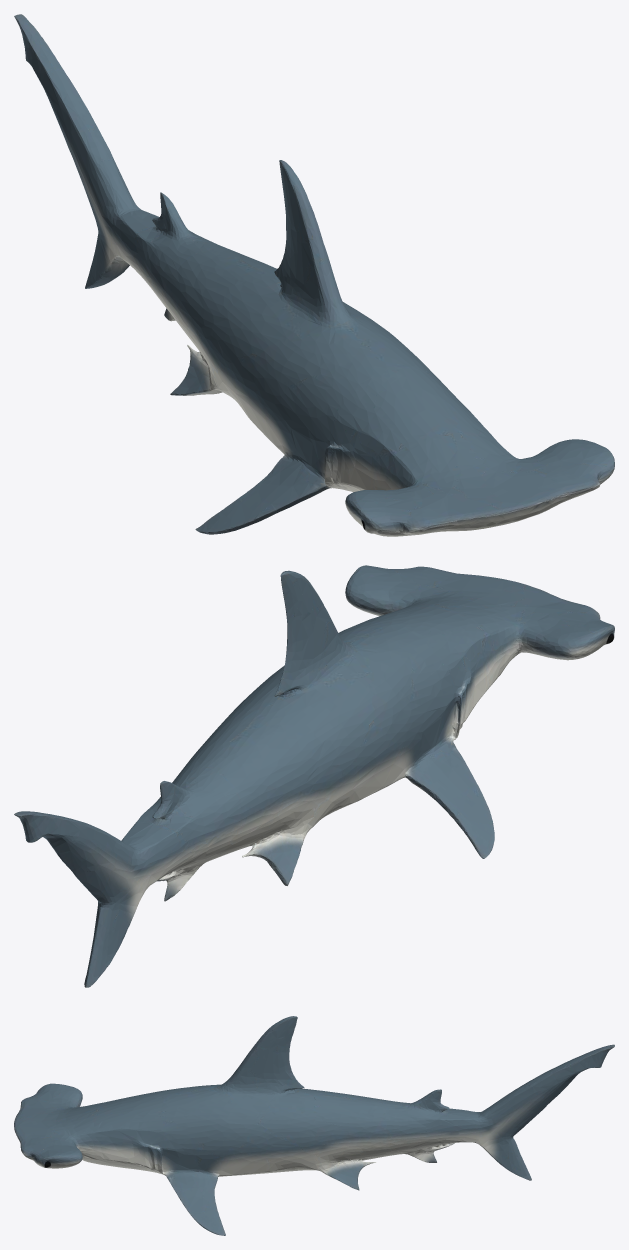
Rendered from meshy-hammerhead.glb.
3 views of the same model, one above another, from view 1: azimuth 30°, elevation 25°; view 2: azimuth 150°, elevation 25°; view 3: azimuth 270°, elevation 25° (orthographic). The views are drawn at different scales.
Size of the model in its own units: 0.6398 by 0.6164 by 1.9.
Materials: 1 (1 with a texture image).
